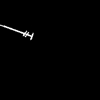treble_crochet: (1, 25, 32, 38)
